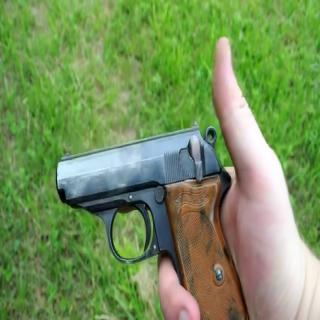gun: (52, 111, 252, 318)
